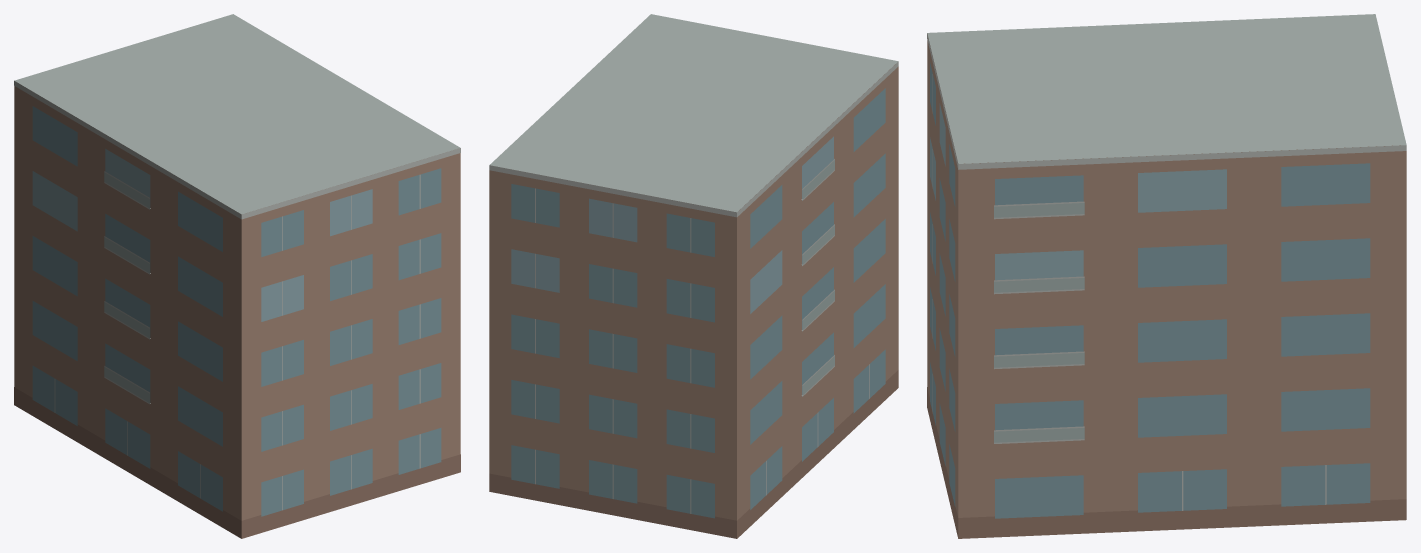
File: survey-upis-32632713.glb
3 views of the same model, side by side, from view 1: azimuth 30°, elevation 25°; view 2: azimuth 150°, elevation 25°; view 3: azimuth 270°, elevation 25° (orthographic). The views are drawn at different scales.
Visible parts, largest first — view 1: survey-upis-32632713.tmp; view 2: survey-upis-32632713.tmp; view 3: survey-upis-32632713.tmp.
Boxes of the visible parts, x1,y1,x2,y2 form: survey-upis-32632713.tmp: (14,14,460,538); survey-upis-32632713.tmp: (489,14,898,538); survey-upis-32632713.tmp: (927,14,1406,538).
Size of the model in its own units: 13.48 by 15.7 by 18.21.
